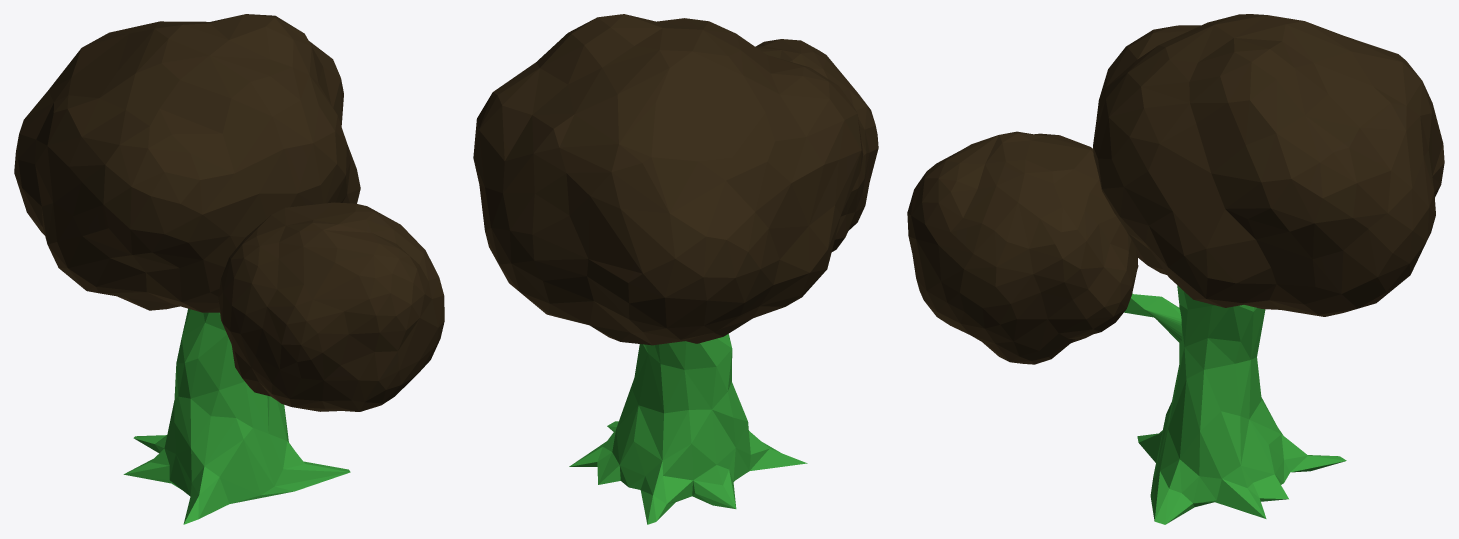
The model's file is Tree2.obj.
3 views of the same model, side by side, from view 1: azimuth 30°, elevation 25°; view 2: azimuth 150°, elevation 25°; view 3: azimuth 270°, elevation 25° (orthographic). The views are drawn at different scales.
Visible parts, largest first — view 1: tree2; view 2: tree2; view 3: tree2.
Boxes of the visible parts, <box> form: tree2: <box>14,14,444,524</box>; tree2: <box>473,14,878,524</box>; tree2: <box>907,14,1444,524</box>.
Size of the model in its own units: 225 by 309 by 333.
Materials: 1 (1 with a texture image).
